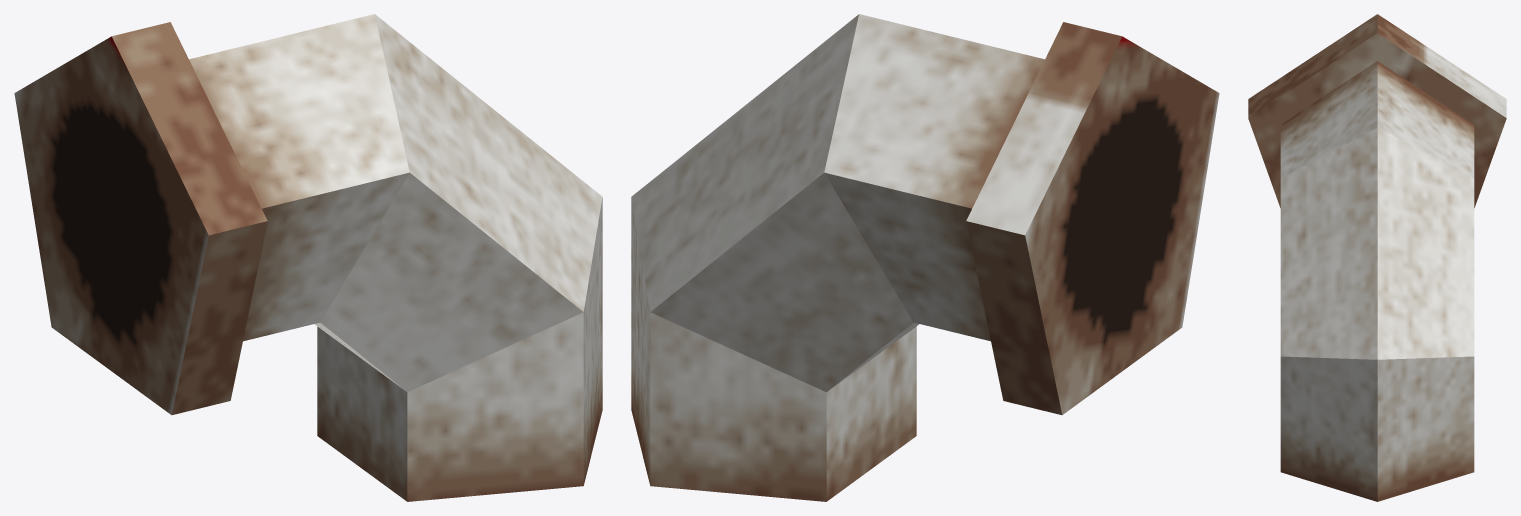
Rendered from corner.glb.
3 views of the same model, side by side, from view 1: azimuth 30°, elevation 25°; view 2: azimuth 150°, elevation 25°; view 3: azimuth 270°, elevation 25° (orthographic). The views are drawn at different scales.
Parts seen in each view (by area): view 1: Pipe Corner; view 2: Pipe Corner; view 3: Pipe Corner.
Boxes of the visible parts, x1=… form: Pipe Corner: x1=14, y1=14, x2=602, y2=501; Pipe Corner: x1=631, y1=14, x2=1219, y2=501; Pipe Corner: x1=1248, y1=14, x2=1506, y2=501.
Size of the model in its own units: 0.4161 by 0.4 by 0.2853.
1 material, 1 textured.
